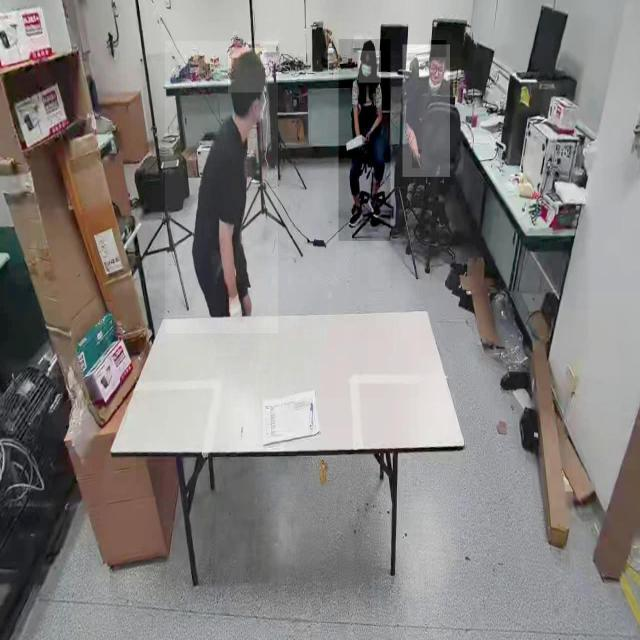face_mask: (358, 51, 382, 84)
hand_glove: (225, 284, 245, 322)
hand_noglove: (412, 149, 422, 169), (362, 129, 371, 144)
head_nohelmet: (228, 48, 267, 93), (429, 40, 447, 58), (360, 39, 376, 53)
person: (165, 41, 279, 334), (339, 39, 391, 242), (402, 44, 450, 178)
shoes: (366, 187, 384, 222), (347, 193, 364, 228)
